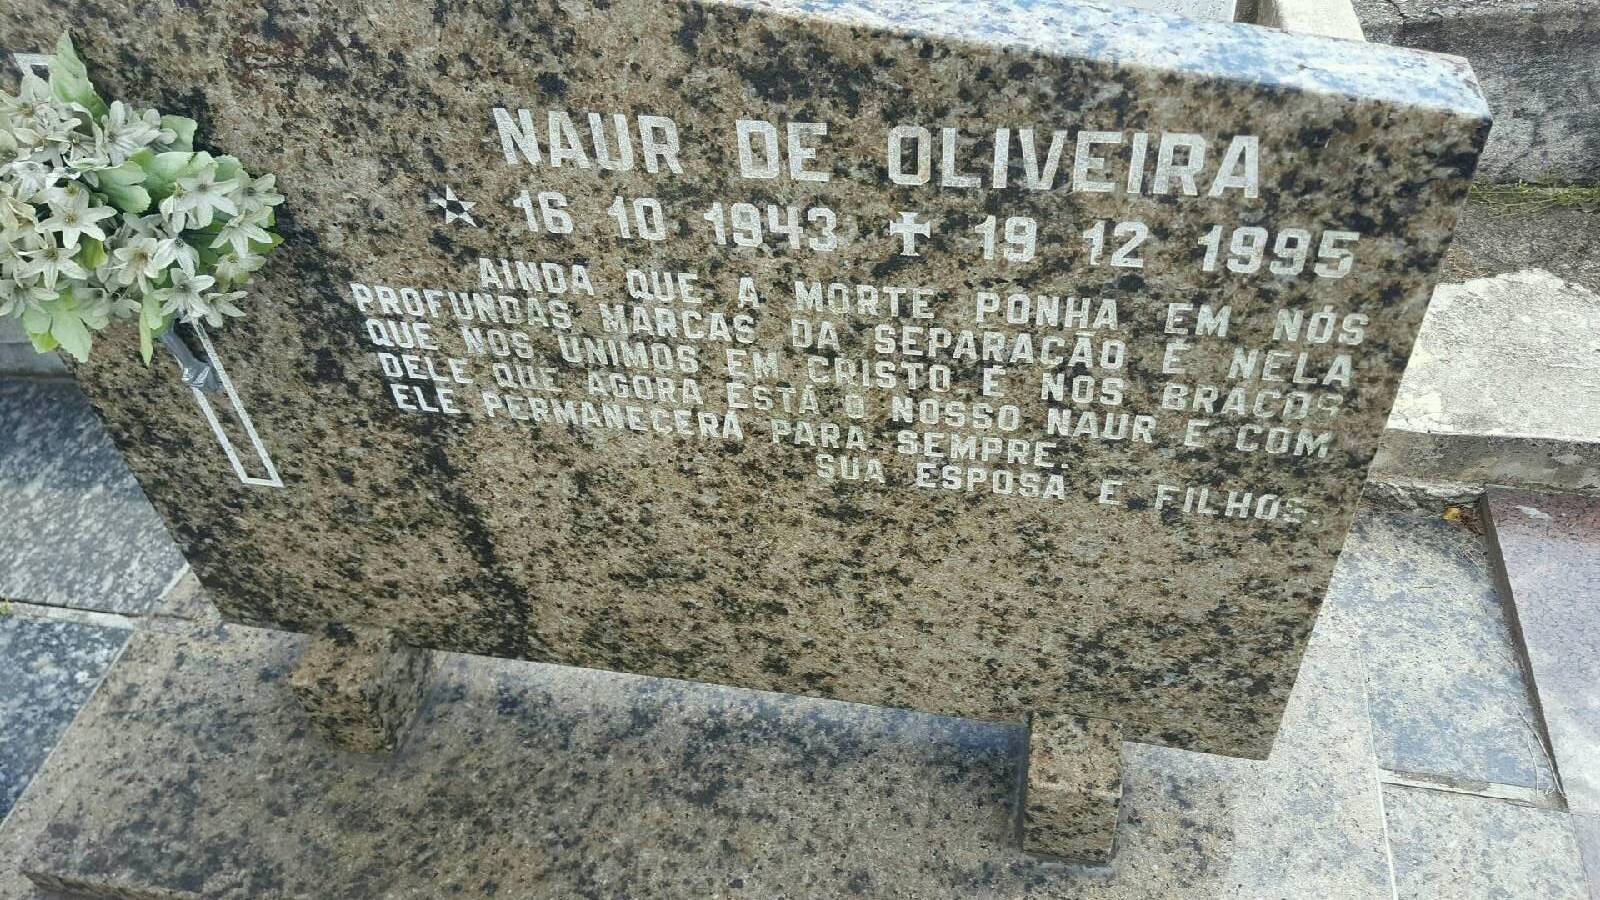upright: (0, 5, 1509, 763)
